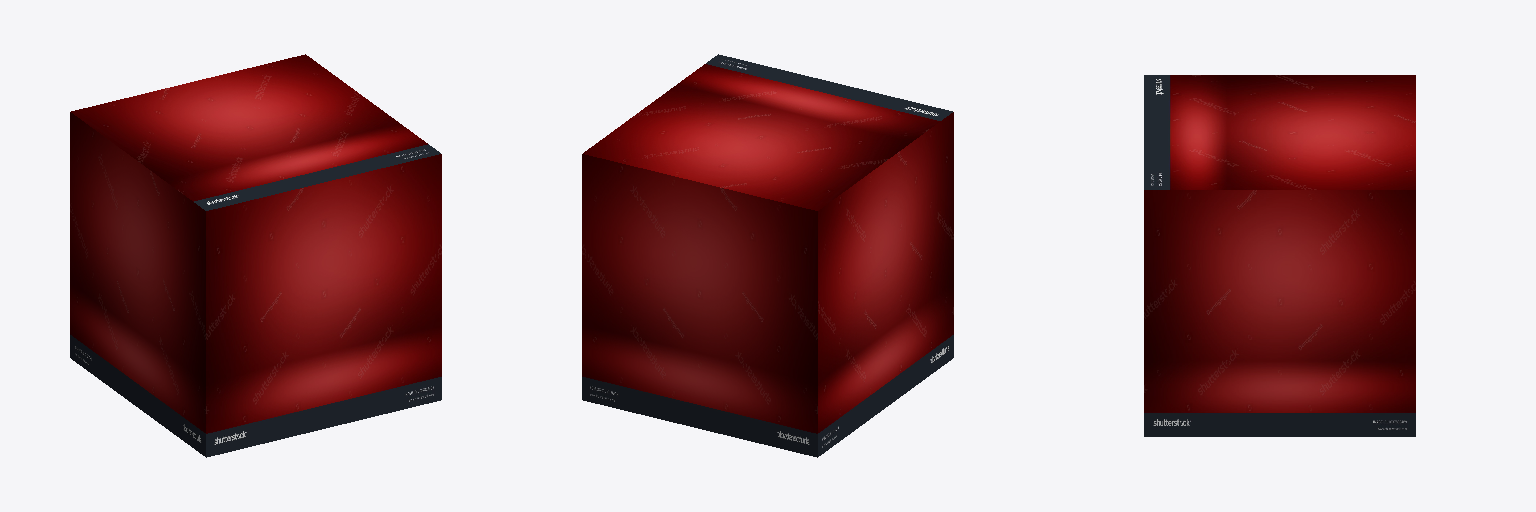
The picture shows the model from 3 angles: view 1: azimuth 30°, elevation 25°; view 2: azimuth 150°, elevation 25°; view 3: azimuth 270°, elevation 25°; orthographic projection.
Parts seen in each view (by area): view 1: Cube; view 2: Cube; view 3: Cube.
Part boxes in pixels (x1,y1,x2,y2): Cube: (70,54,441,457); Cube: (582,54,953,457); Cube: (1144,75,1415,436).
Bounding box in the file's own units: 2 × 2 × 2.
Materials: 1 (1 with a texture image).